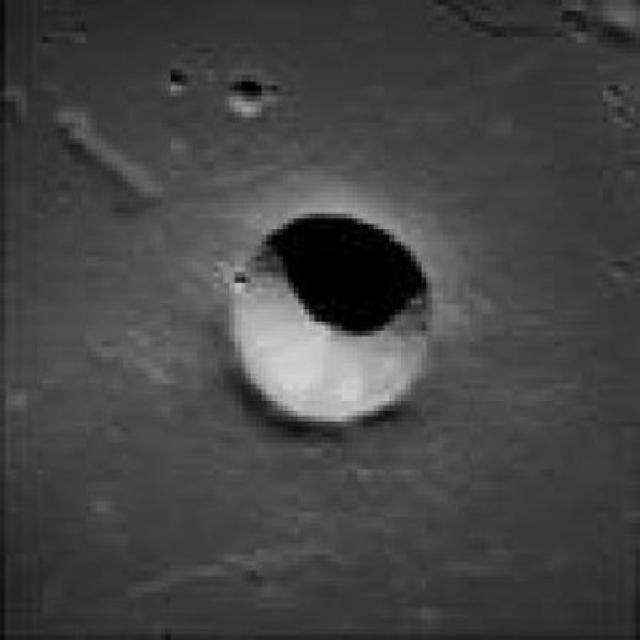crater: (230, 205, 428, 422), (231, 73, 266, 115)
